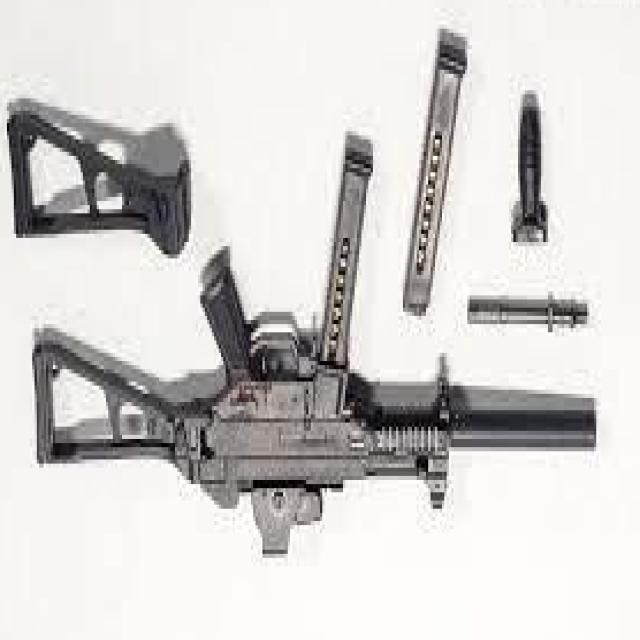Gun: (24, 137, 490, 574)
